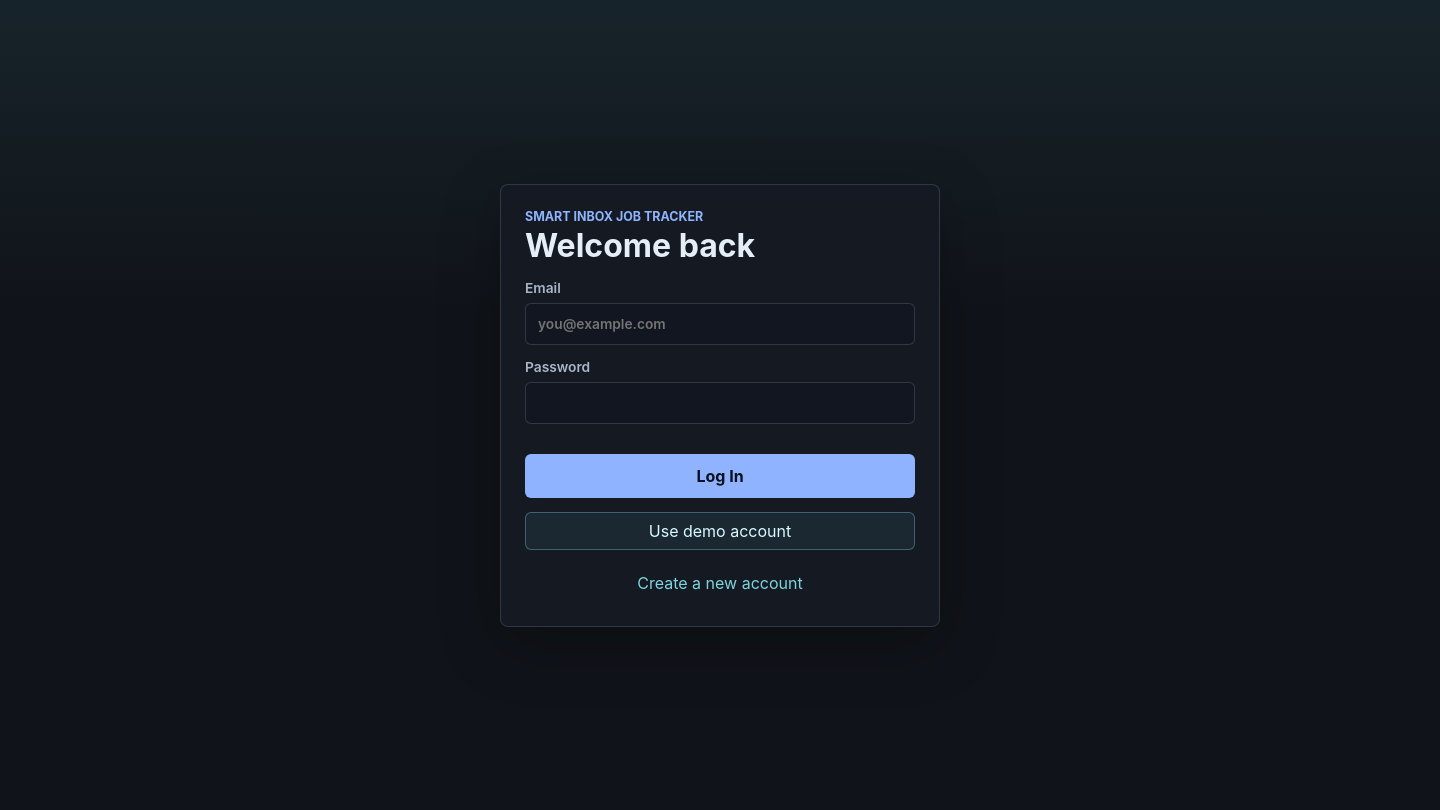
Test: switches to registration mode
The width and height of the screenshot is (1440, 810).
Click the button "Create a new account" at (720, 582), box [525,564,915,602]
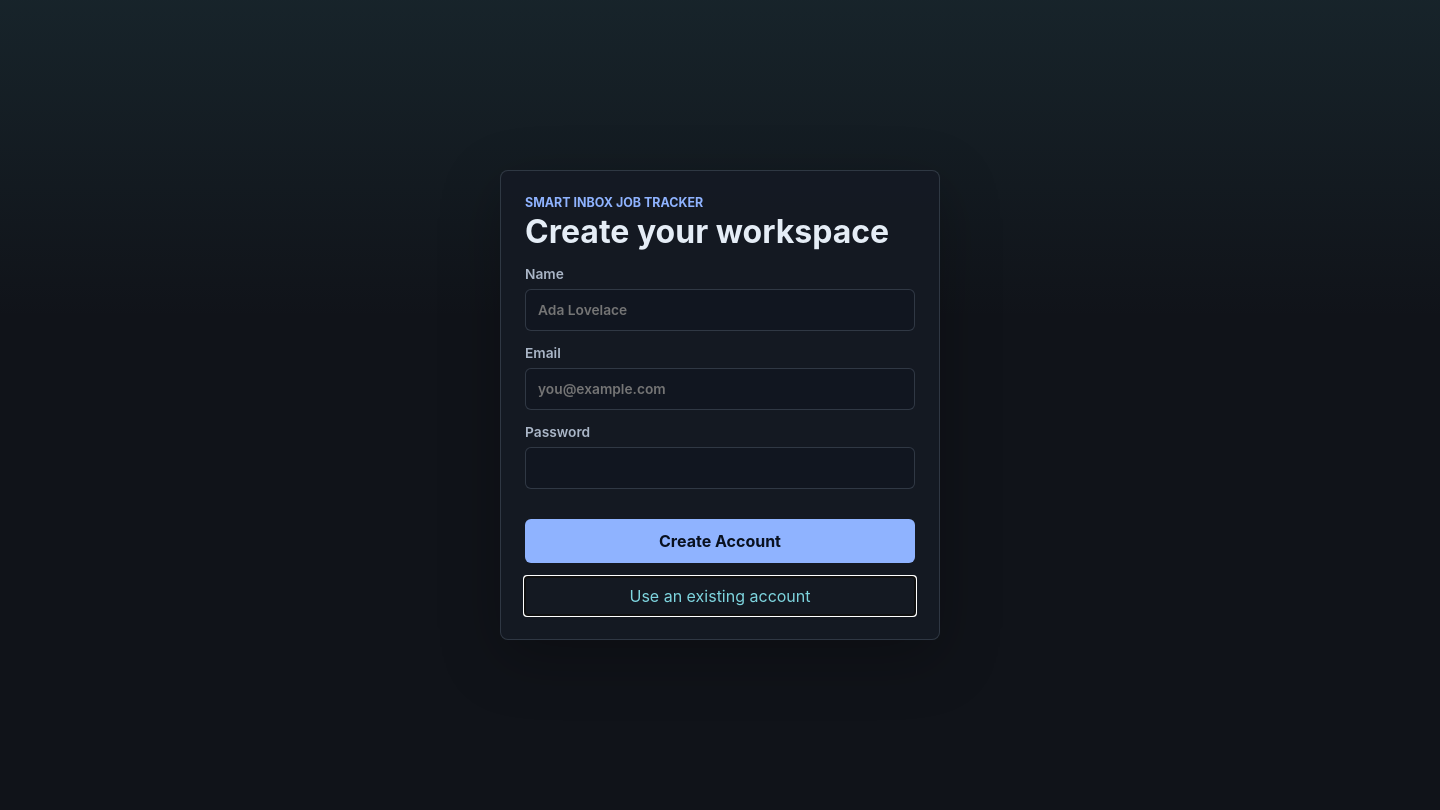
Expected: the heading "Create your workspace" is shown, [525,216,915,248]
Expected: the field labelled "Name" is shown, [525,289,915,331]
